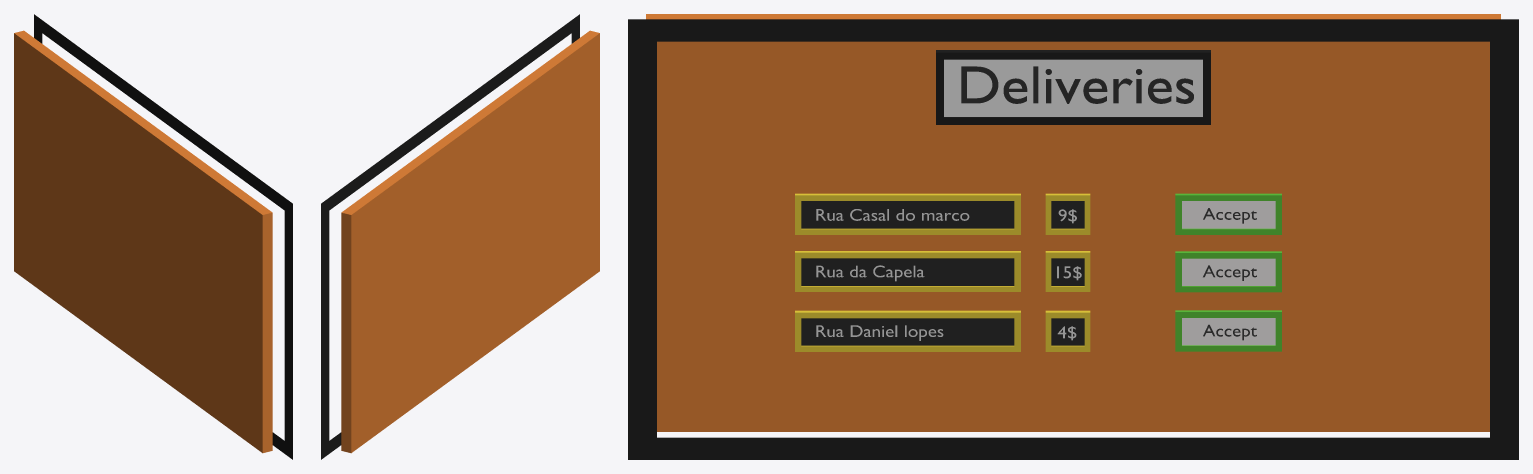
Rendered from MenuPegaEncomenda.fbx.
The picture shows the model from 3 angles, left to right: view 1: azimuth 30°, elevation 25°; view 2: azimuth 150°, elevation 25°; view 3: azimuth 270°, elevation 25°; orthographic projection. The views are drawn at different scales.
Parts seen in each view (by area): view 1: Cube, Plane; view 2: Cube, Plane; view 3: Cube, Plane, Cube.001, Cube.006, Cube.002, Cube.005, Cube.011, Cube.008, Cube.012, Text, Cube.003, Cube.007 (+1 smaller).
Part boxes in pixels (x1,y1,x2,y2): Cube: [14, 30, 272, 453]; Plane: [34, 14, 292, 459]; Cube: [341, 30, 599, 453]; Plane: [321, 14, 579, 459]; Cube: [646, 14, 1500, 431]; Plane: [628, 19, 1518, 459]; Cube.001: [936, 50, 1210, 124]; Cube.006: [795, 310, 1020, 351]; Cube.002: [795, 193, 1020, 234]; Cube.005: [795, 251, 1020, 291]; Cube.011: [1175, 251, 1281, 292]; Cube.008: [1175, 193, 1281, 234]; Cube.012: [1175, 310, 1281, 351]; Text: [961, 66, 1193, 103]; Cube.003: [1045, 193, 1090, 234]; Cube.007: [1045, 310, 1090, 351].
Bounding box in the file's own units: 84.48 × 824 × 1511.
